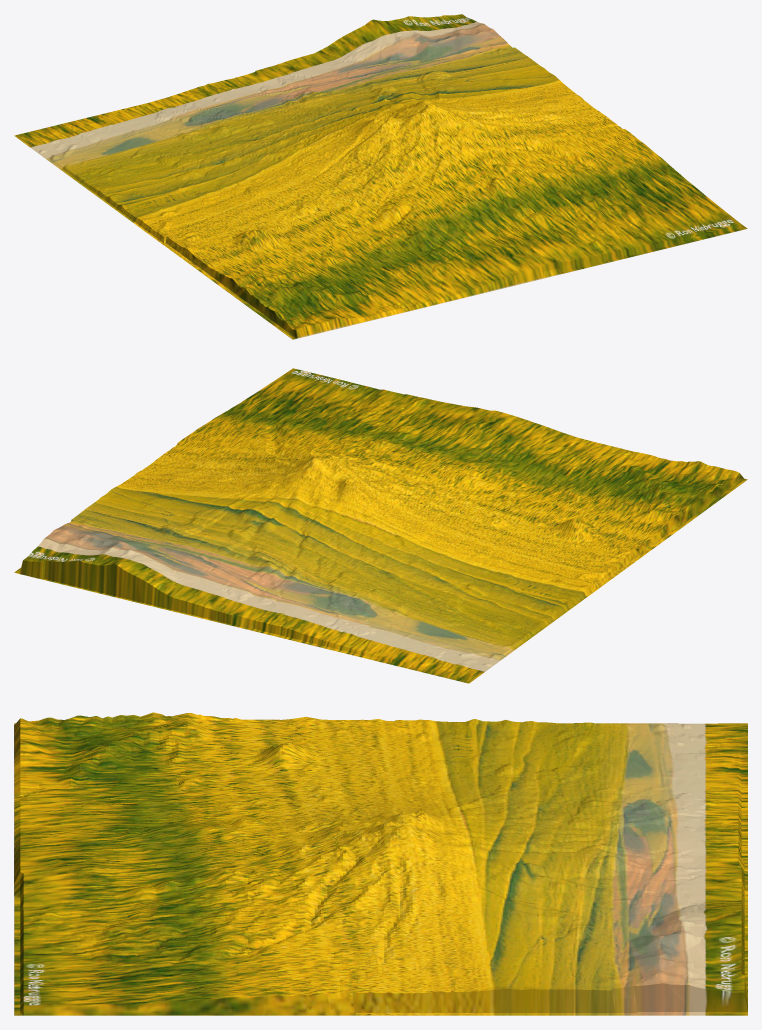
The model's file is mountain.obj.
The picture shows the model from 3 angles, top to bottom: view 1: azimuth 30°, elevation 25°; view 2: azimuth 150°, elevation 25°; view 3: azimuth 270°, elevation 25°; orthographic projection. The views are drawn at different scales.
Parts seen in each view (by area): view 1: vue_ready_shasta; view 2: vue_ready_shasta; view 3: vue_ready_shasta.
Part boxes in pixels (x1,y1,x2,y2): vue_ready_shasta: [14, 14, 747, 339]; vue_ready_shasta: [14, 368, 747, 683]; vue_ready_shasta: [14, 712, 747, 1015].
Size of the model in its own units: 15.95 by 2.04 by 16.94.
Materials: 1 (1 with a texture image).
